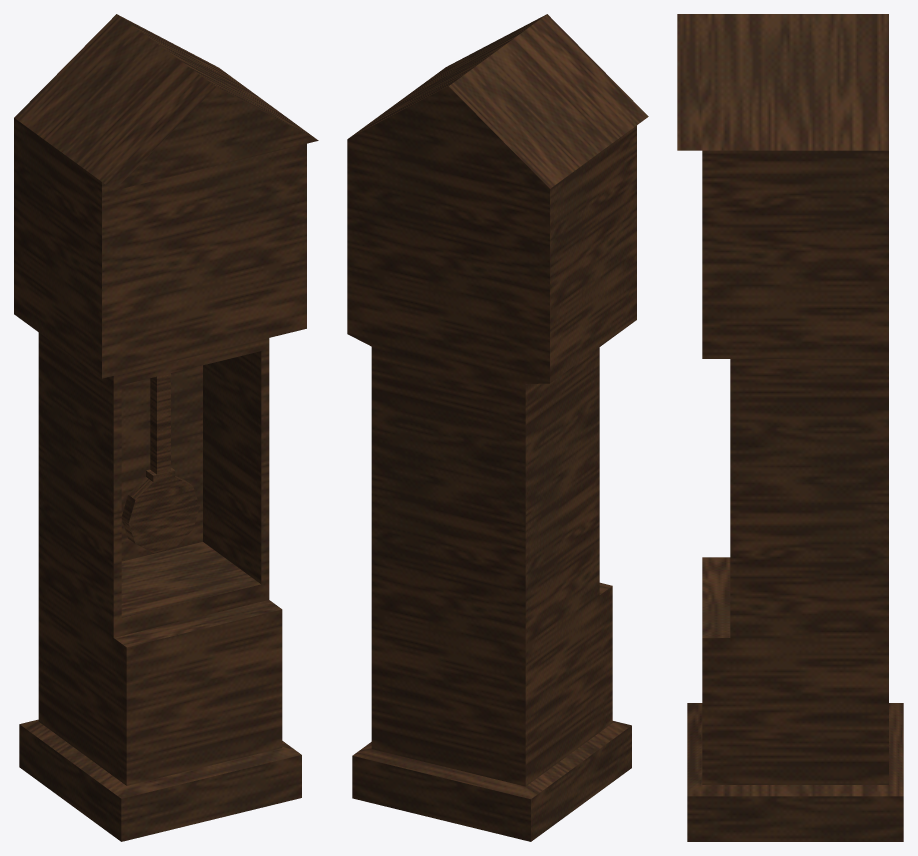
Rendered from GrandfatherClock.fbx.
3 views of the same model, side by side, from view 1: azimuth 30°, elevation 25°; view 2: azimuth 150°, elevation 25°; view 3: azimuth 270°, elevation 25° (orthographic). The views are drawn at different scales.
Visible parts, largest first — view 1: GrandfatherClock, GrandfatherClock.001; view 2: GrandfatherClock; view 3: GrandfatherClock.
Part boxes in pixels (box(x1,y1,x2,y2)): GrandfatherClock: box(14, 14, 318, 841); GrandfatherClock.001: box(121, 373, 199, 552); GrandfatherClock: box(347, 14, 648, 841); GrandfatherClock: box(677, 14, 903, 841).
Size of the model in its own units: 0.6246 by 2.14 by 0.5635.
Materials: 1 (1 with a texture image).
